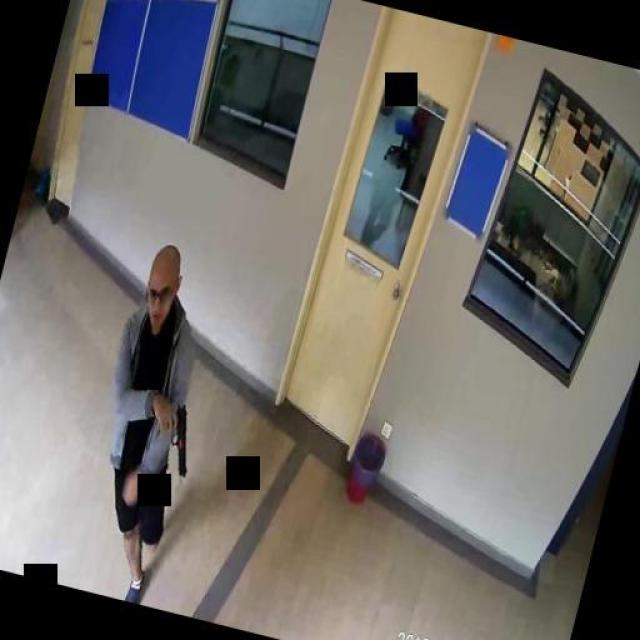gun: (150, 398, 200, 473)
